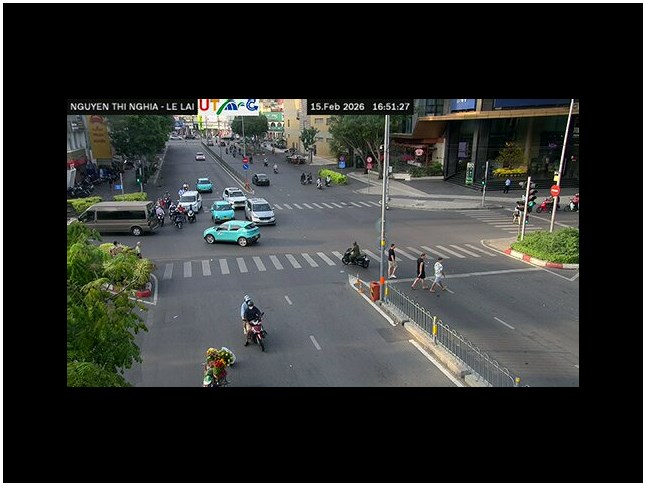car: (202, 219, 261, 247), (238, 197, 276, 227), (248, 198, 276, 227), (210, 200, 235, 225), (195, 176, 214, 193), (223, 186, 246, 200), (252, 172, 271, 187)
motorbike: (242, 317, 268, 351), (171, 205, 188, 228)
truck: (82, 197, 163, 236)
